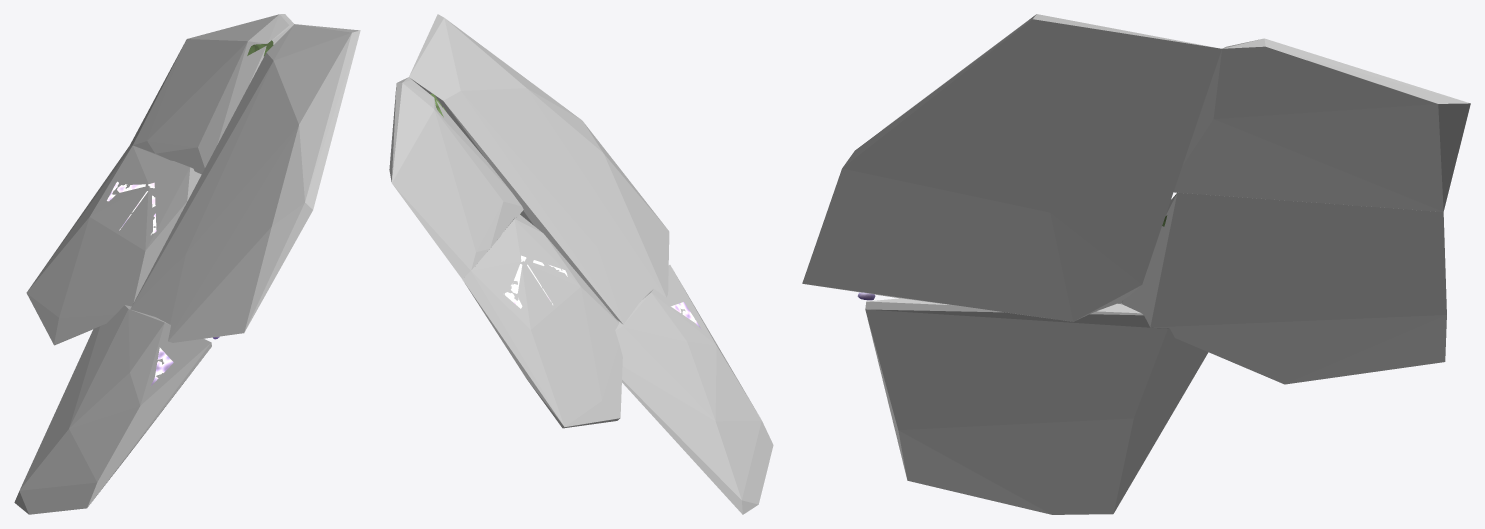
The model's file is SM_Env_Vines_Preset_Roof_Straight_03.fbx.
3 renders of one model, left to right at view 1: azimuth 30°, elevation 25°; view 2: azimuth 150°, elevation 25°; view 3: azimuth 270°, elevation 25°, orthographic. The views are drawn at different scales.
Parts seen in each view (by area): view 1: SM_Env_Vines_Preset_Roof_Straight_03_ConvexHulls, SM_Env_Vines_Preset_Roof_Straight_03; view 2: SM_Env_Vines_Preset_Roof_Straight_03_ConvexHulls, SM_Env_Vines_Preset_Roof_Straight_03; view 3: SM_Env_Vines_Preset_Roof_Straight_03_ConvexHulls.
Part boxes in pixels (x1,y1,x2,y2): SM_Env_Vines_Preset_Roof_Straight_03_ConvexHulls: (14,14,360,514); SM_Env_Vines_Preset_Roof_Straight_03: (107,40,273,385); SM_Env_Vines_Preset_Roof_Straight_03_ConvexHulls: (389,14,773,514); SM_Env_Vines_Preset_Roof_Straight_03: (430,93,701,329); SM_Env_Vines_Preset_Roof_Straight_03_ConvexHulls: (802,14,1470,514).
Size of the model in its own units: 199 by 177 by 238.
Materials: 3 (2 with a texture image).
